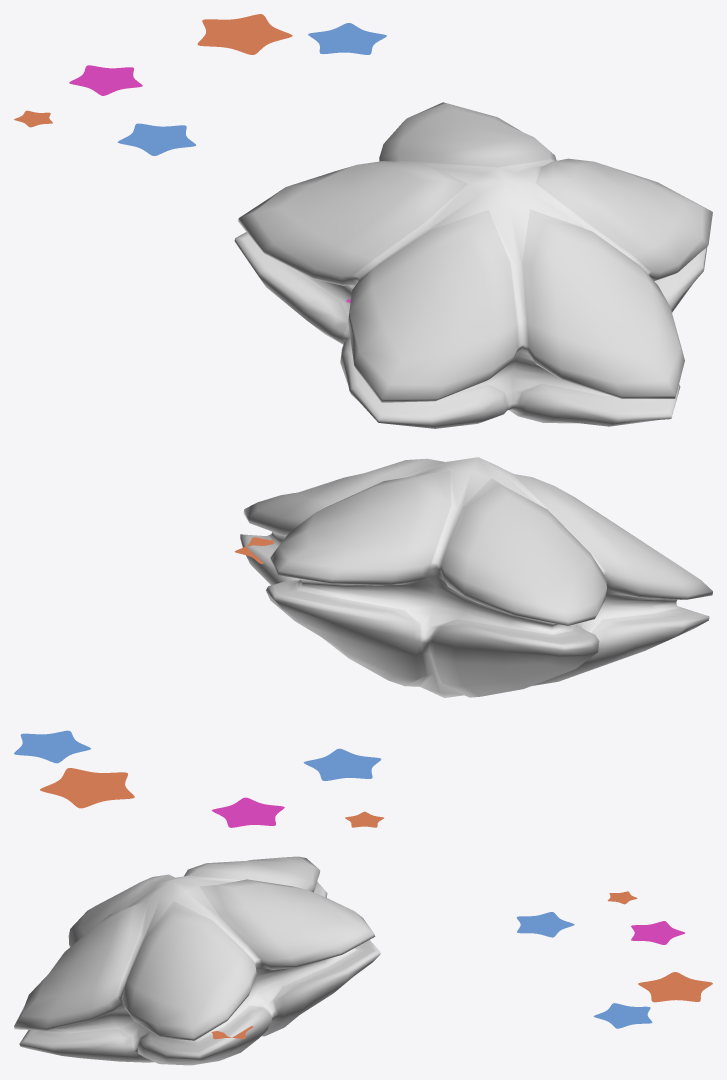
Rendered from Green Star.fbx.
The picture shows the model from 3 angles, top to bottom: view 1: azimuth 30°, elevation 25°; view 2: azimuth 150°, elevation 25°; view 3: azimuth 270°, elevation 25°; orthographic projection. The views are drawn at different scales.
Visible parts, largest first — view 1: Star, Star.001; view 2: Star, Star.001; view 3: Star, Star.001.
Boxes of the visible parts, left/top/right/bottom form: Star: left=234, top=102, right=712, bottom=428; Star.001: left=14, top=14, right=386, bottom=302; Star: left=240, top=457, right=712, bottom=697; Star.001: left=14, top=537, right=383, bottom=827; Star: left=14, top=856, right=380, bottom=1065; Star.001: left=211, top=891, right=712, bottom=1039.
Size of the model in its own units: 7.55 by 2.02 by 4.
